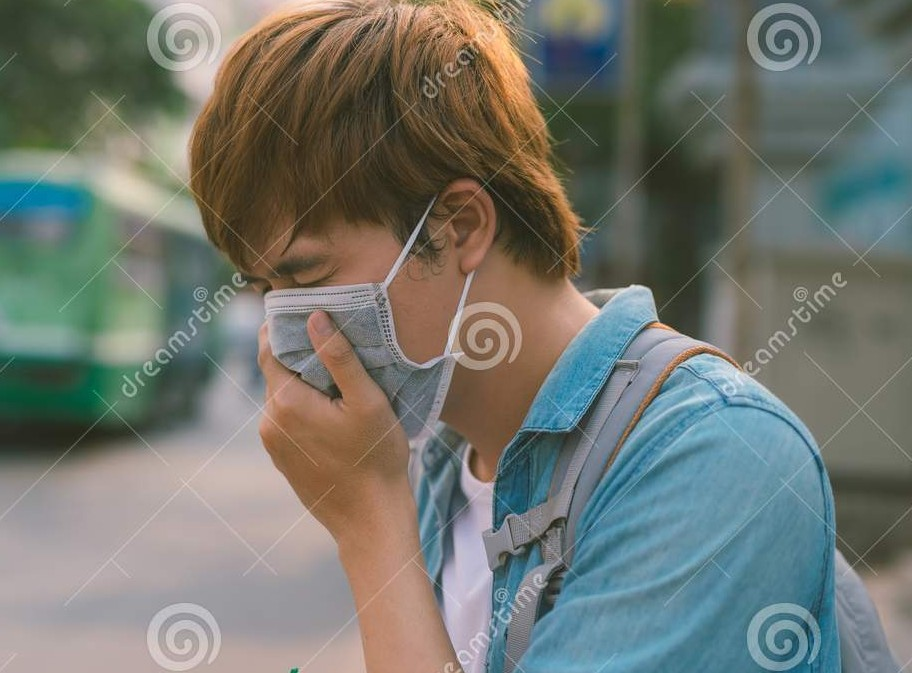with_mask: (192, 56, 551, 453)
